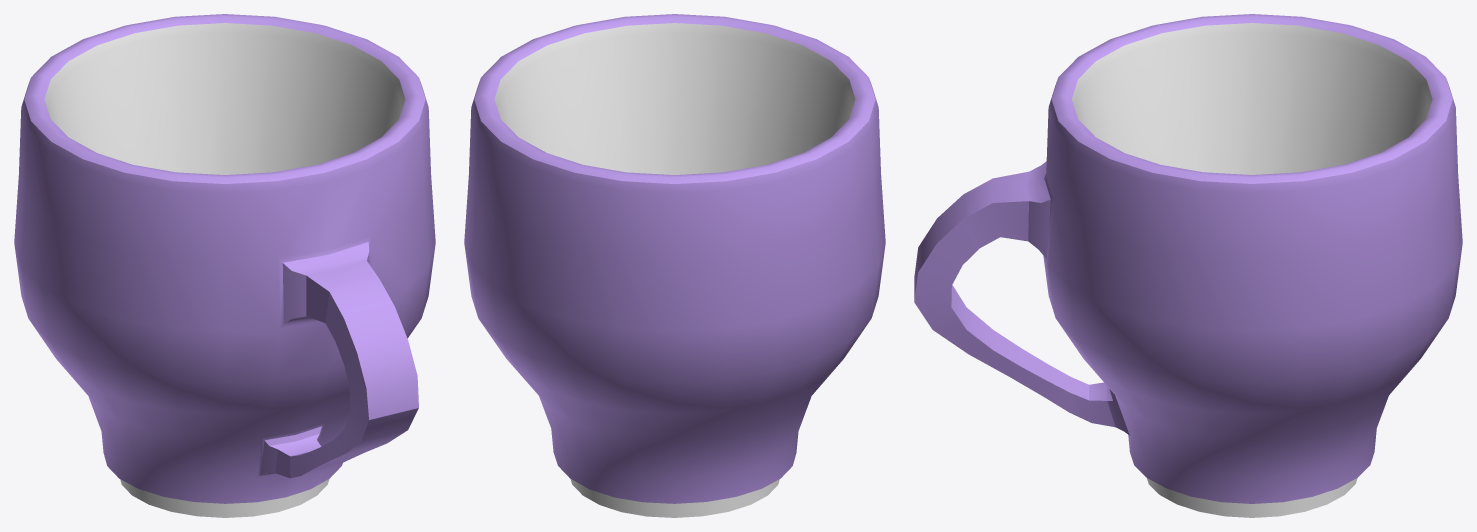
Rendered from Cups_02.glb.
The picture shows the model from 3 angles, left to right: view 1: azimuth 30°, elevation 25°; view 2: azimuth 150°, elevation 25°; view 3: azimuth 270°, elevation 25°; orthographic projection.
Visible parts, largest first — view 1: Mesh_Cups_02; view 2: Mesh_Cups_02; view 3: Mesh_Cups_02.
Boxes of the visible parts, box(x1,y1,x2,y2) form: Mesh_Cups_02: box(14, 14, 435, 517); Mesh_Cups_02: box(464, 14, 885, 517); Mesh_Cups_02: box(914, 14, 1462, 517).
Size of the model in its own units: 0.0841 by 0.083 by 0.1095.
Materials: 1 (1 with a texture image).
